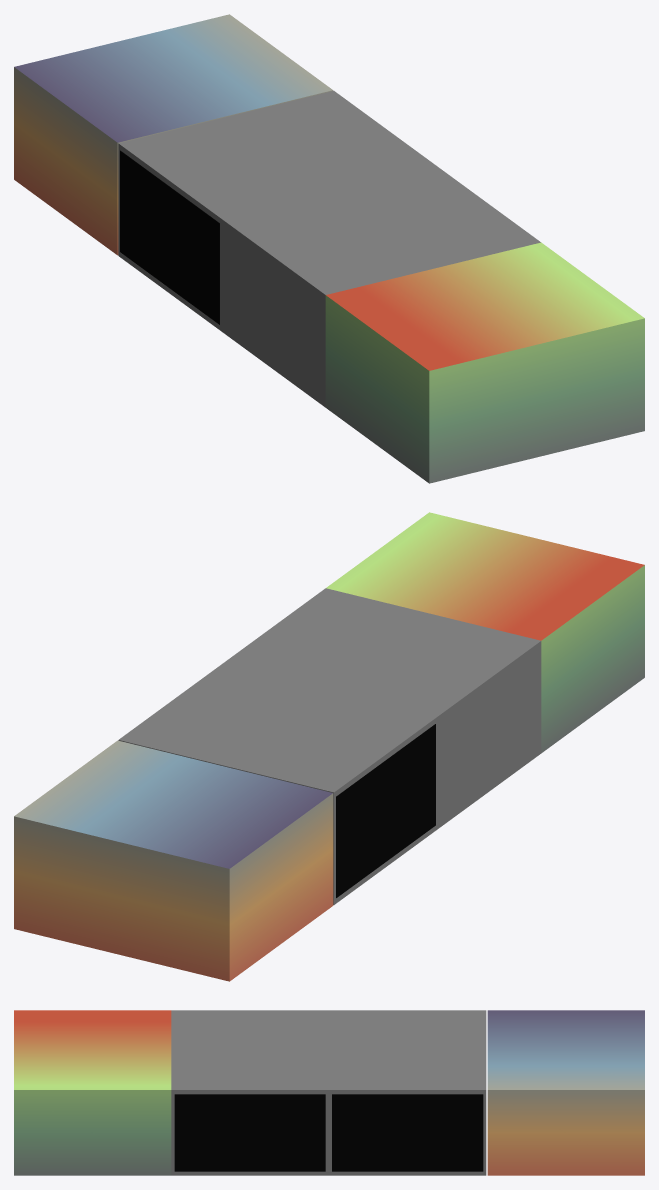
File: NewArtGallery.glb
3 renders of one model, top to bottom at view 1: azimuth 30°, elevation 25°; view 2: azimuth 150°, elevation 25°; view 3: azimuth 270°, elevation 25°, orthographic. The views are drawn at different scales.
Parts seen in each view (by area): view 1: Sala1, Sala2, Sala32, Moldura2; view 2: Sala32, Sala2, Sala1, Moldura2; view 3: Sala2, Sala1, Sala32, Moldura4, Moldura3.
Part boxes in pixels (x1,y1,x2,y2): Sala1: (325, 242, 644, 483); Sala2: (118, 91, 540, 407); Sala32: (14, 14, 333, 255); Moldura2: (120, 150, 219, 324); Sala32: (14, 740, 333, 981); Sala2: (118, 588, 541, 904); Sala1: (326, 512, 644, 753); Moldura2: (336, 724, 435, 897); Sala2: (171, 1010, 486, 1175); Sala1: (14, 1010, 171, 1175); Sala32: (487, 1010, 644, 1175); Moldura4: (332, 1094, 483, 1171); Moldura3: (174, 1094, 325, 1171).
Size of the model in its own units: 14.06 by 7 by 46.73.
9 materials, 6 textured.
